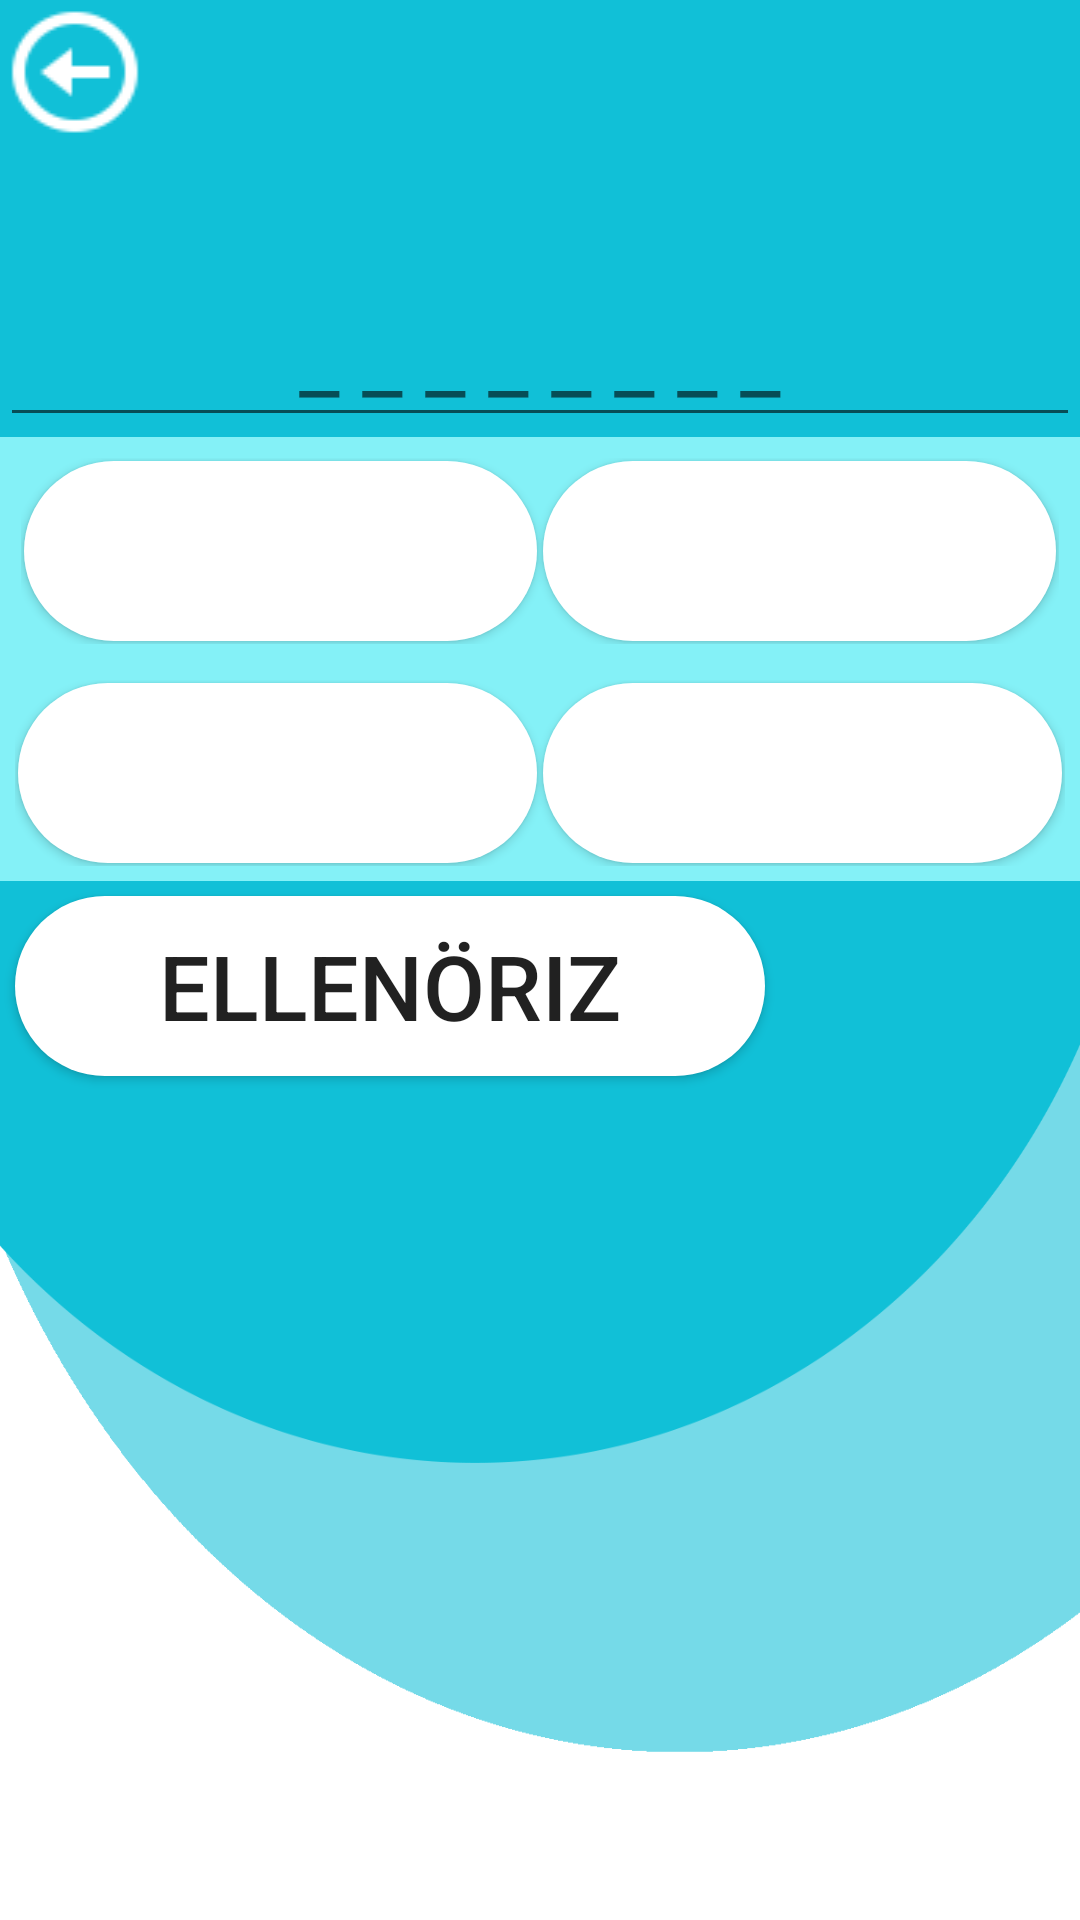

Icons on this 1080 x 1920 Android screen, each with the point to tap as point (x, y):
back: point (75, 72)
